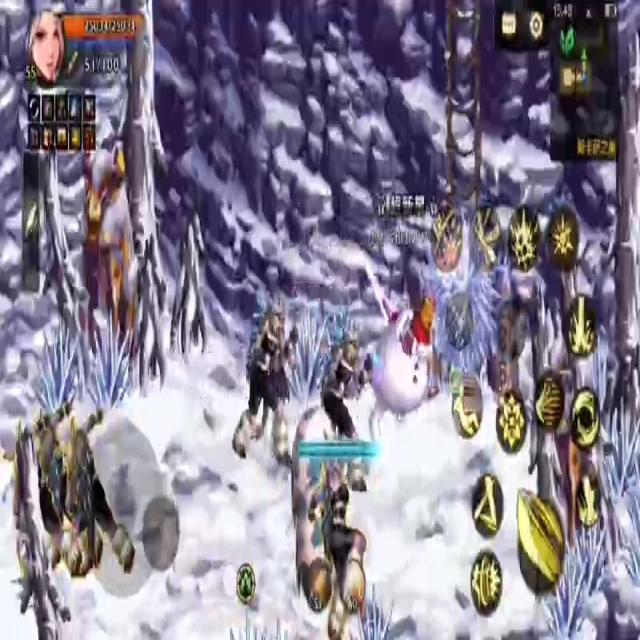player: (368, 287, 440, 443)
